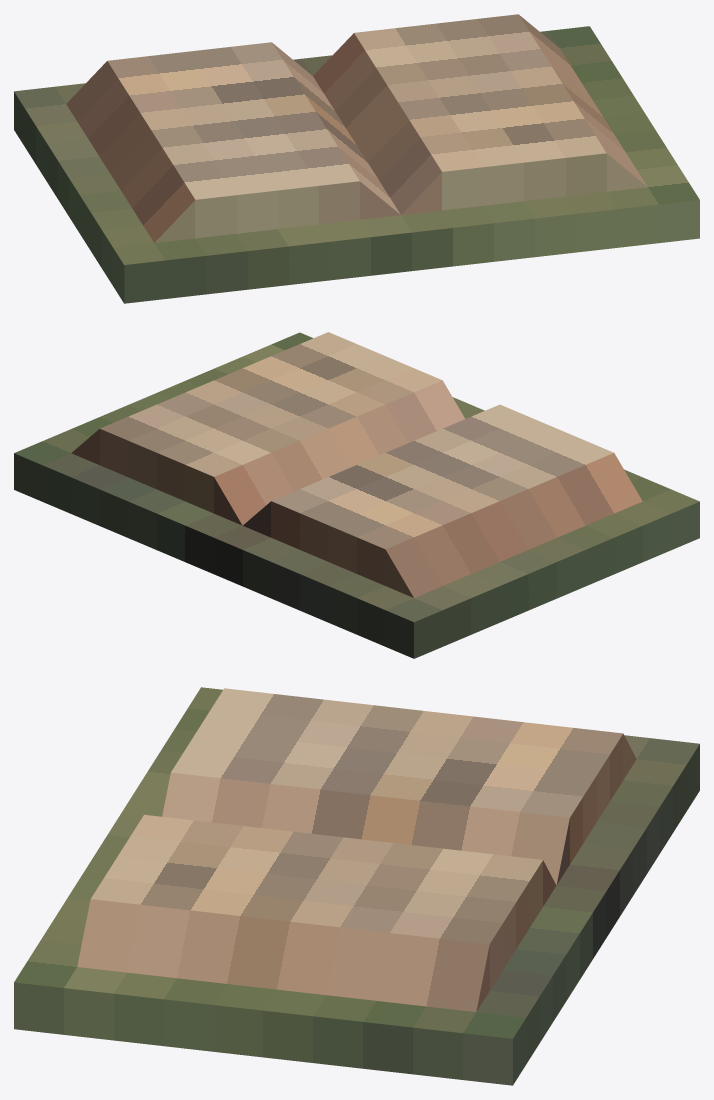
Rendered from book_open.fbx.
The picture shows the model from 3 angles, top to bottom: view 1: azimuth 30°, elevation 25°; view 2: azimuth 150°, elevation 25°; view 3: azimuth 270°, elevation 25°; orthographic projection. The views are drawn at different scales.
Visible parts, largest first — view 1: book_open; view 2: book_open; view 3: book_open.
Part boxes in pixels (x1,y1,x2,y2): book_open: [14, 14, 699, 303]; book_open: [14, 332, 699, 658]; book_open: [14, 687, 699, 1085].
Size of the model in its own units: 80.56 by 10 by 66.41.
